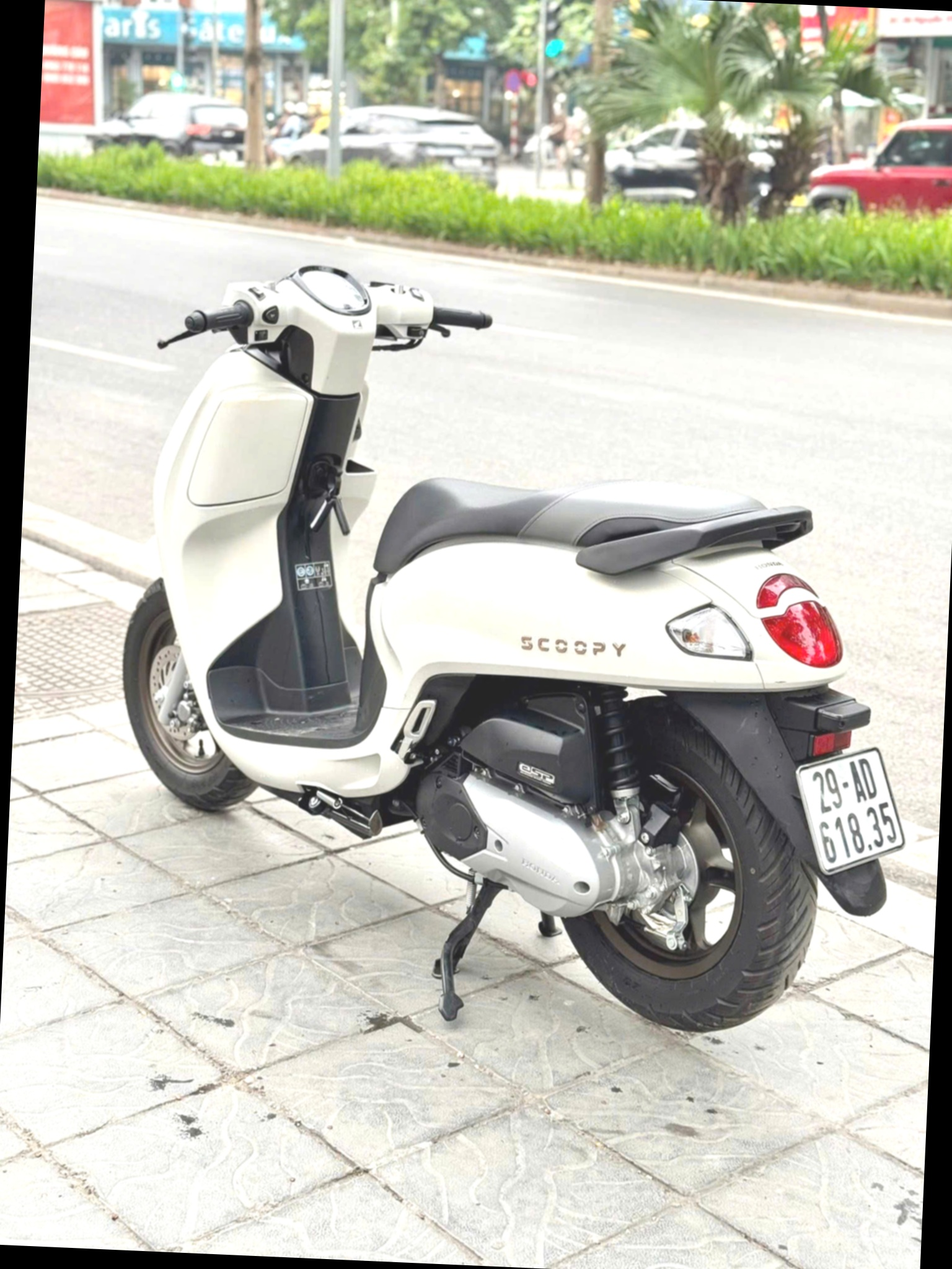Bien-so: (815, 761, 938, 907)
